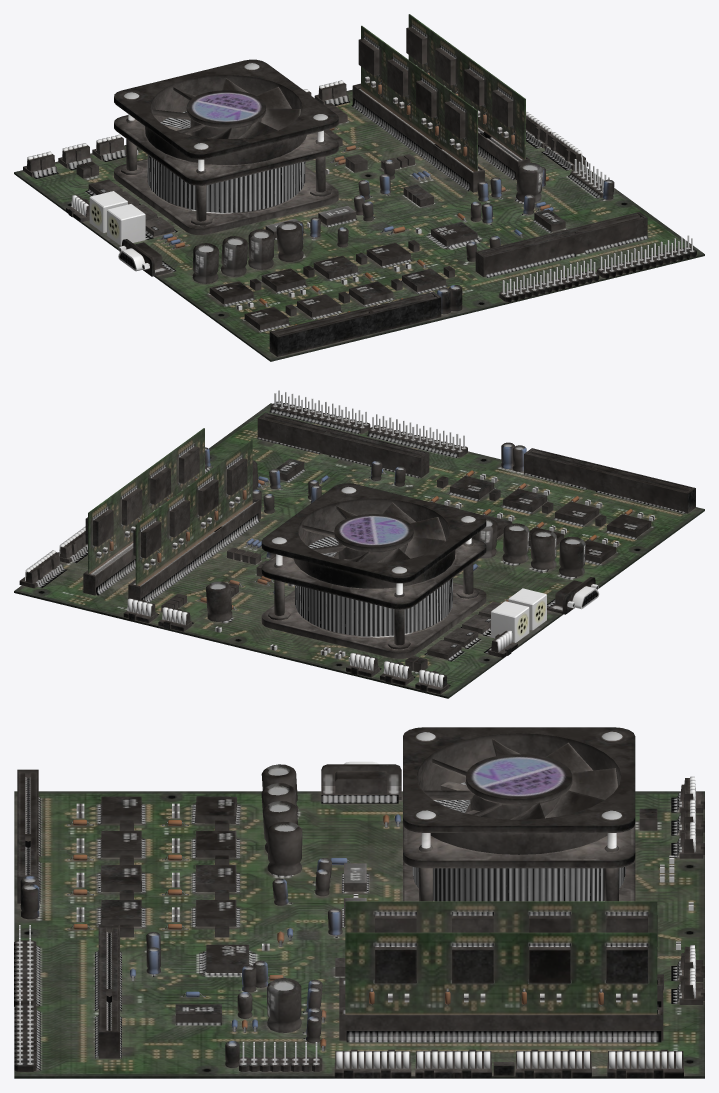
File: circuit_board.obj
The picture shows the model from 3 angles, top to bottom: view 1: azimuth 30°, elevation 25°; view 2: azimuth 150°, elevation 25°; view 3: azimuth 270°, elevation 25°; orthographic projection. The views are drawn at different scales.
Parts seen in each view (by area): view 1: obj1, obj2; view 2: obj1, obj2; view 3: obj1, obj2.
Part boxes in pixels (box(x1,y1,x2,y2)): obj1: box(23, 14, 696, 356); obj2: box(14, 24, 704, 361); obj1: box(19, 390, 695, 694); obj2: box(14, 403, 704, 698); obj1: box(14, 727, 704, 1078); obj2: box(14, 777, 704, 1078).
Size of the model in its own units: 0.4035 by 0.0783 by 0.3974.
